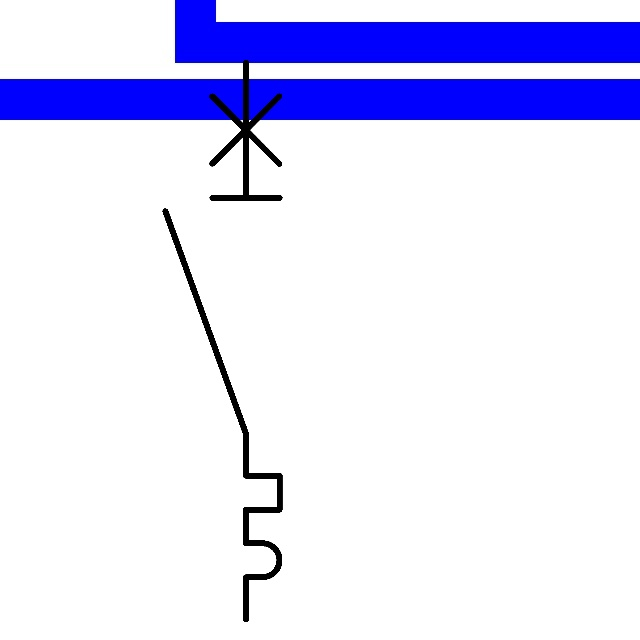interruptor_termomagnetico: (151, 48, 294, 634)
